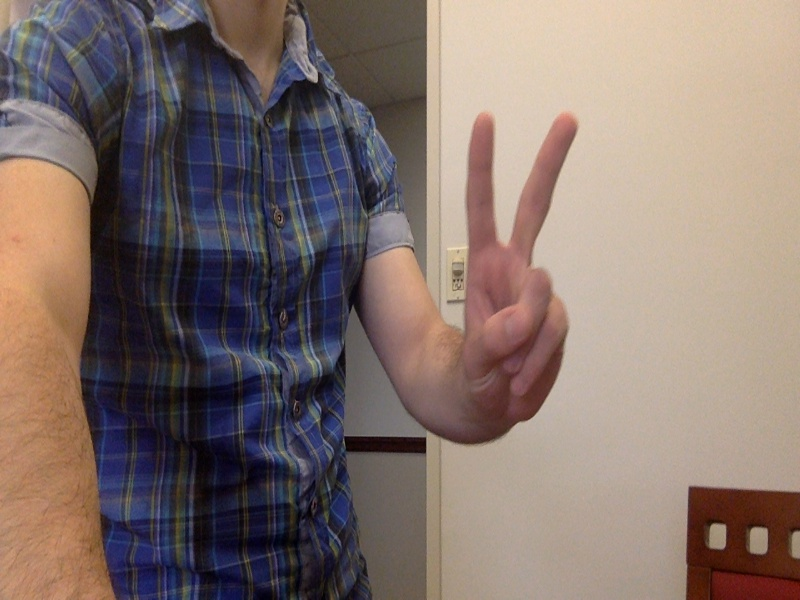2-hand: (457, 110, 578, 439)
